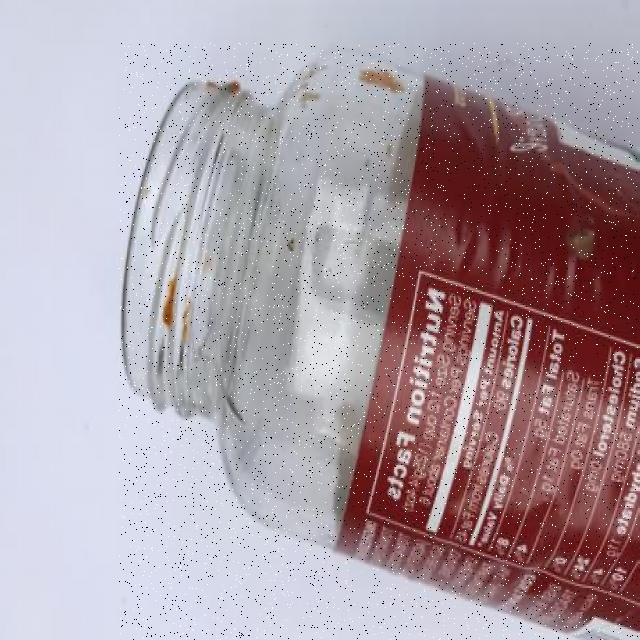glass: (119, 43, 639, 640)
